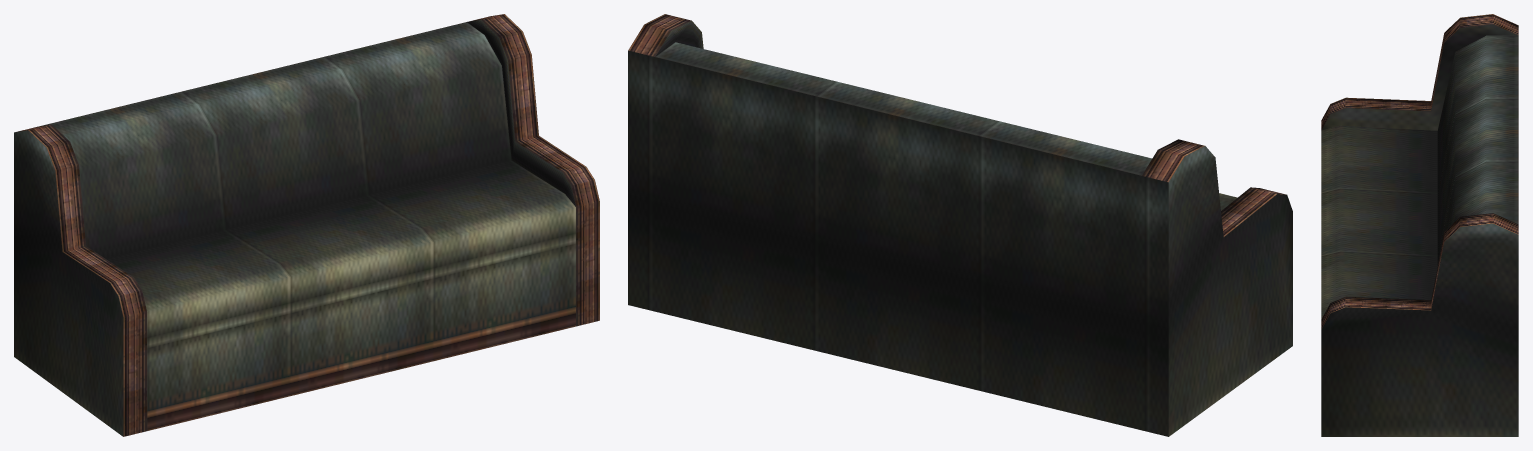
File: couch_med_low.fbx
3 views of the same model, side by side, from view 1: azimuth 30°, elevation 25°; view 2: azimuth 150°, elevation 25°; view 3: azimuth 270°, elevation 25° (orthographic). The views are drawn at different scales.
Visible parts, largest first — view 1: mesh_0; view 2: mesh_0; view 3: mesh_0.
Part boxes in pixels (<box>): mesh_0: <box>14,14,599,436</box>; mesh_0: <box>628,14,1292,436</box>; mesh_0: <box>1321,14,1518,436</box>.
Bounding box in the file's own units: 200 × 95.04 × 79.51.
1 material, 1 textured.
